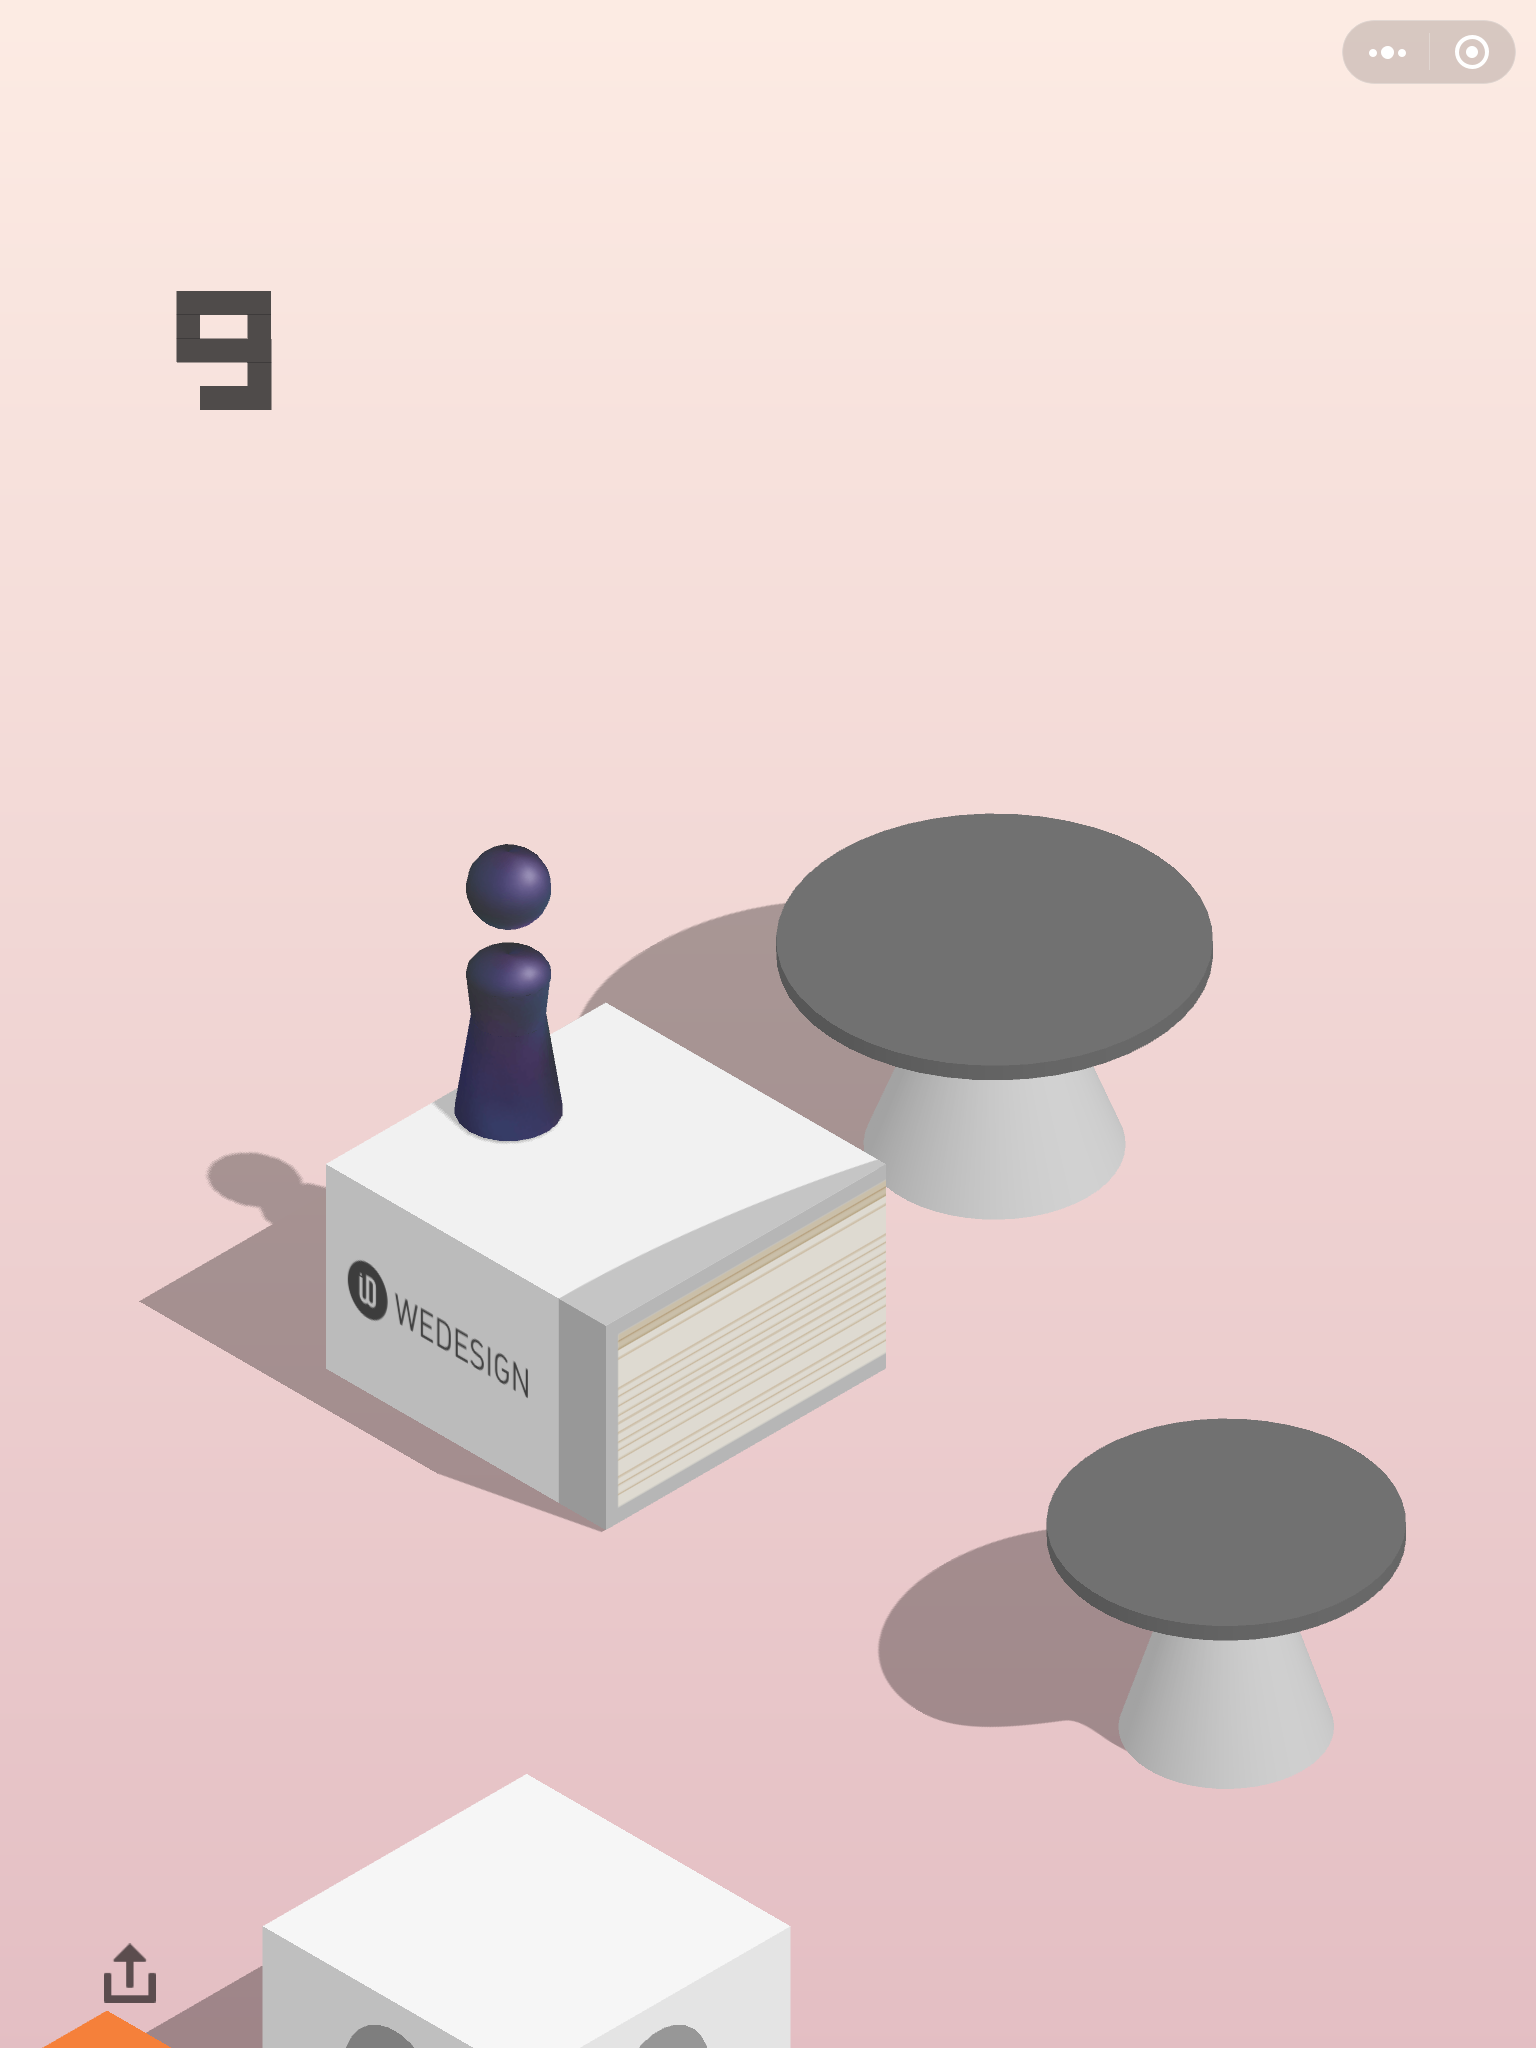c: (770, 806, 1220, 1224), (1041, 1414, 1412, 1793)
f: (318, 1001, 894, 1538), (257, 1771, 797, 2048)
r: (449, 839, 570, 1143)
